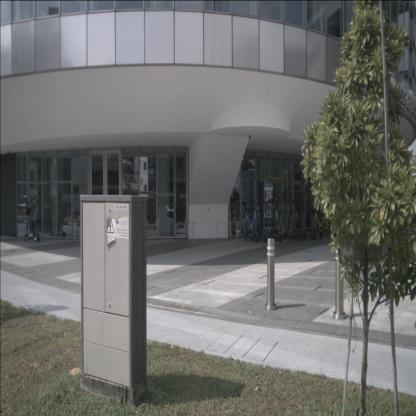vehicle-bicycle: (308, 204, 334, 236)
vehicle-car: (158, 209, 192, 237)
